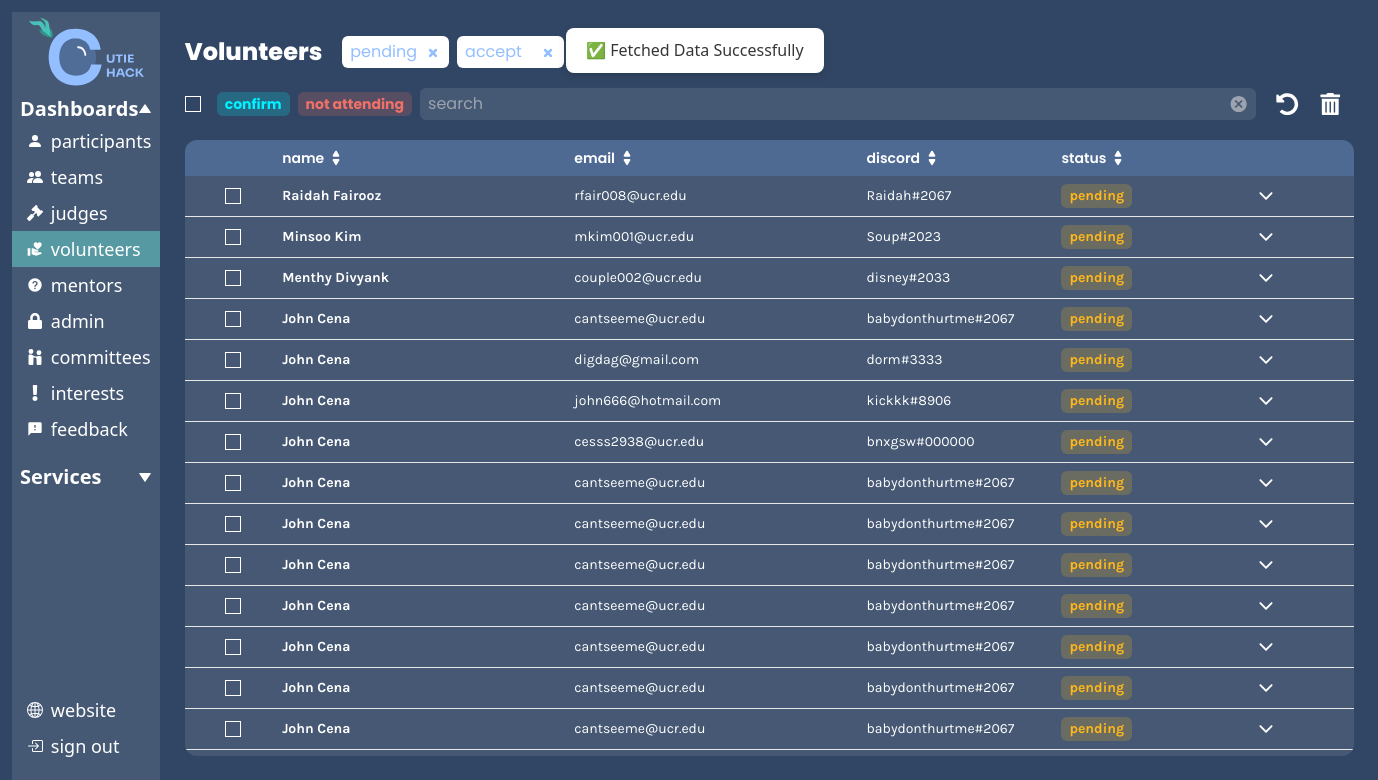
Volunteer Sort › Sort Name Down
The width and height of the screenshot is (1378, 780).
Click the icon with test id "name-sort-down" at x=336, y=162, box [332,158,340,166]
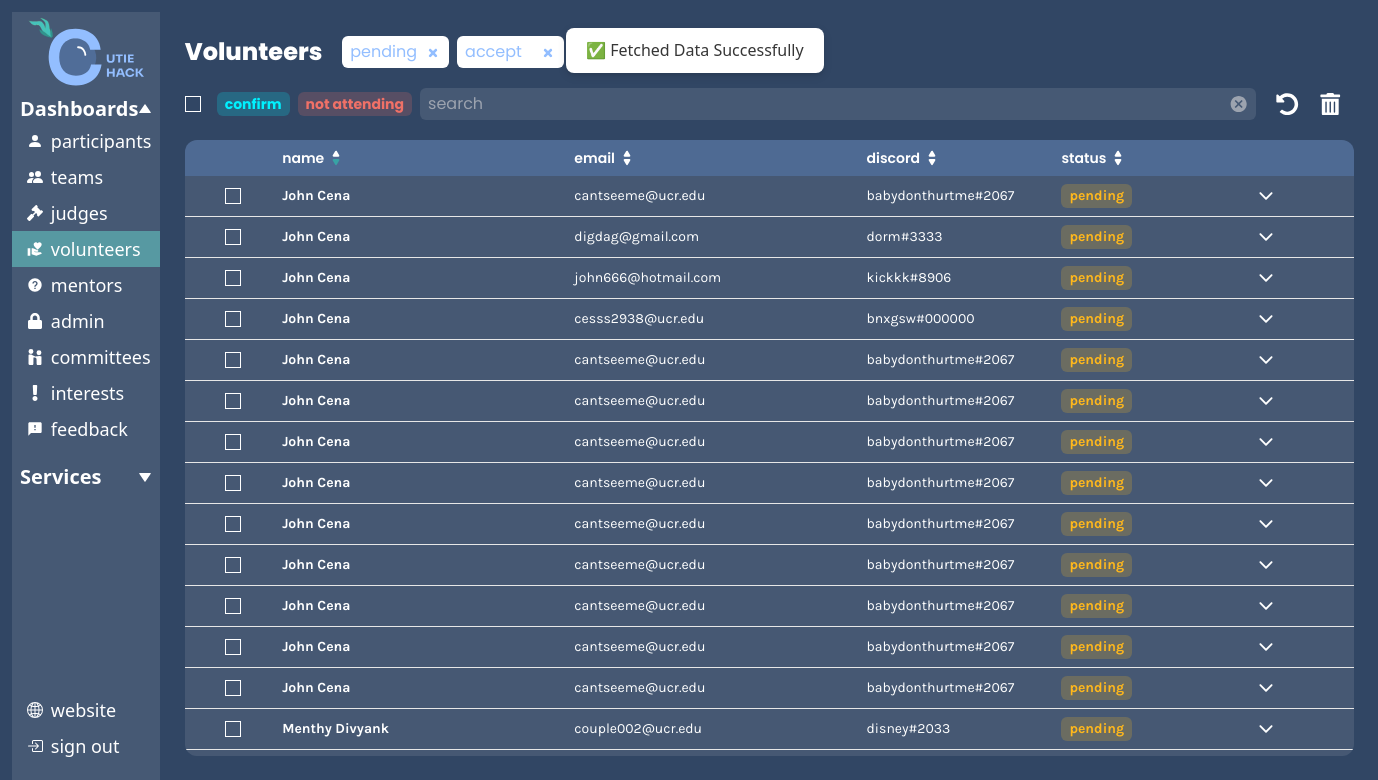
Result: the 1st text with test id "name" reads "John Cena" at [282,186,350,206]
Result: the text with test id "name" in the row of "digdag@gmail.com" reads "John Cena" at [282,227,350,247]
Result: the text with test id "name" in the row of "john666@hotmail.com" reads "John Cena" at [282,268,350,288]
